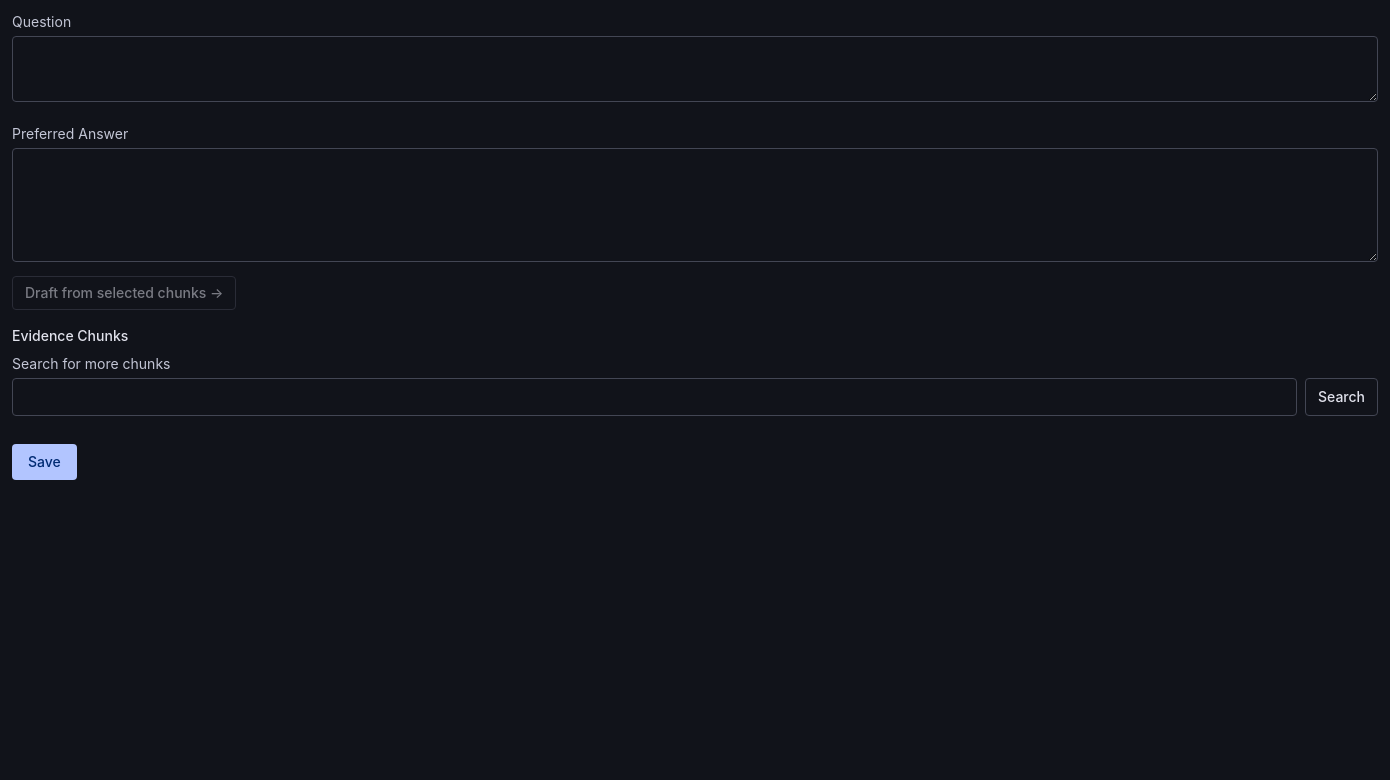
Test: GoldenEntryEditor (026-golden-dataset US1) › fills the answer field with a draft grounded in the selected chunks
This screenshot has width=1390, height=780.
Type "What is the notice period?" into the text box labelled "Question" at (695, 69), box x1=12 y1=36 x2=1378 y2=102
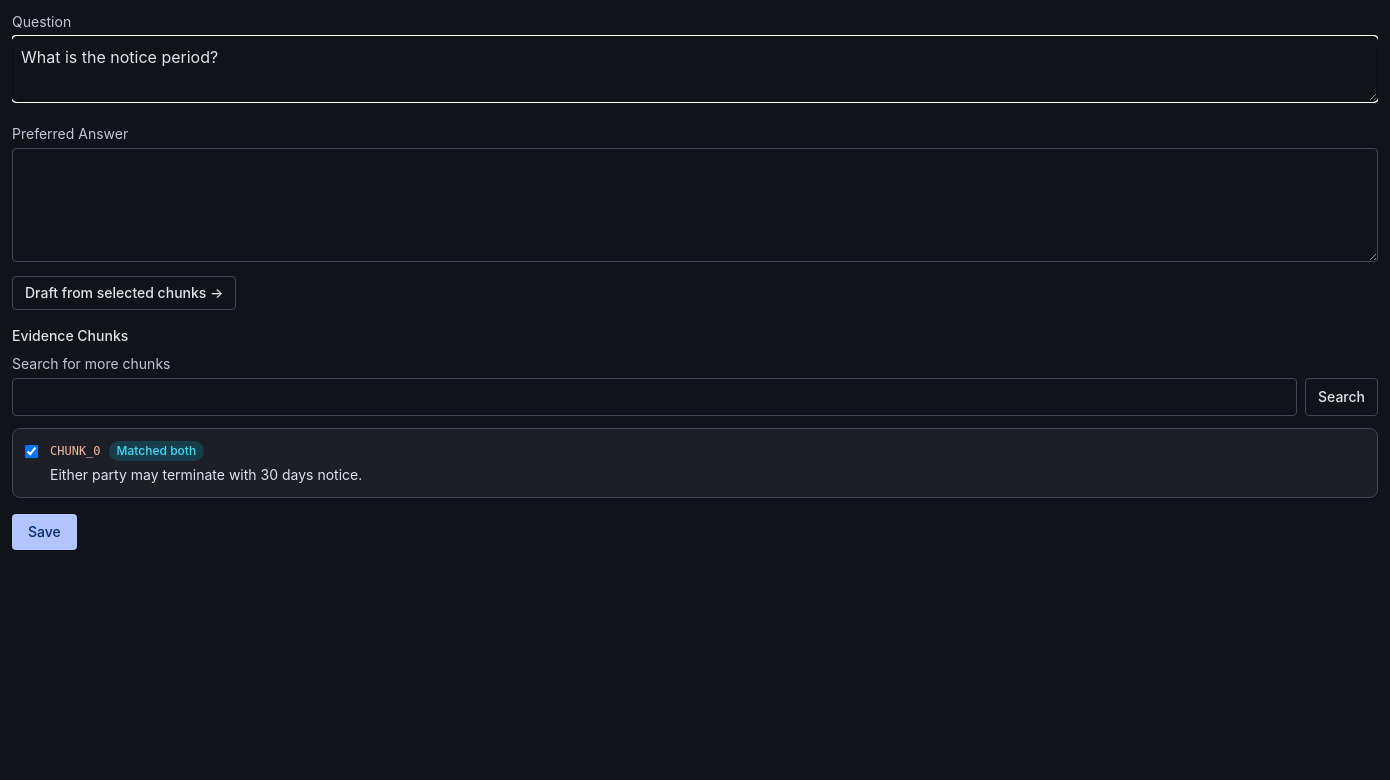
Check: the checkbox labelled "30 days notice" is checked, box x1=25 y1=445 x2=38 y2=458
Click the button "Draft from selected chunks →" at (124, 293), box x1=12 y1=276 x2=236 y2=310
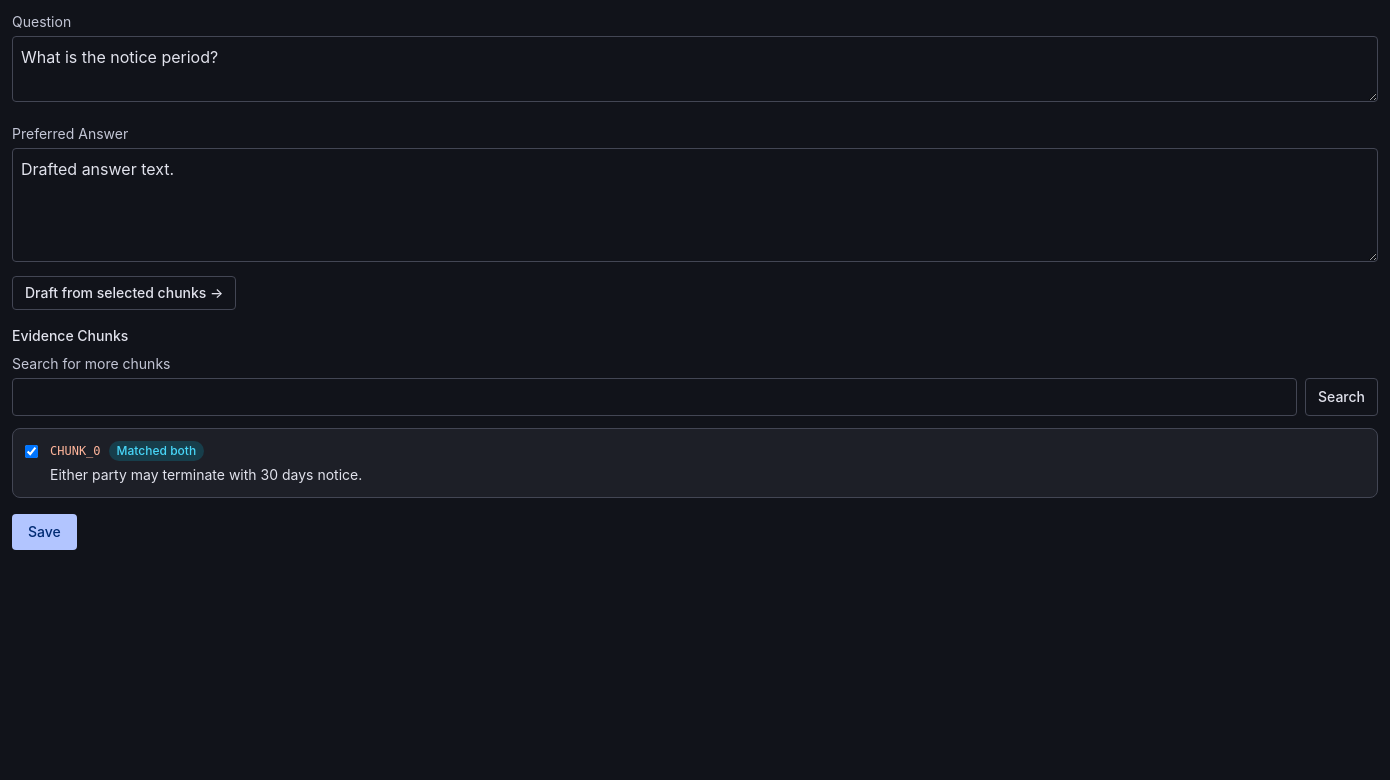
Check: the text box labelled "Preferred Answer" holds "Drafted answer text.", box x1=12 y1=148 x2=1378 y2=262
